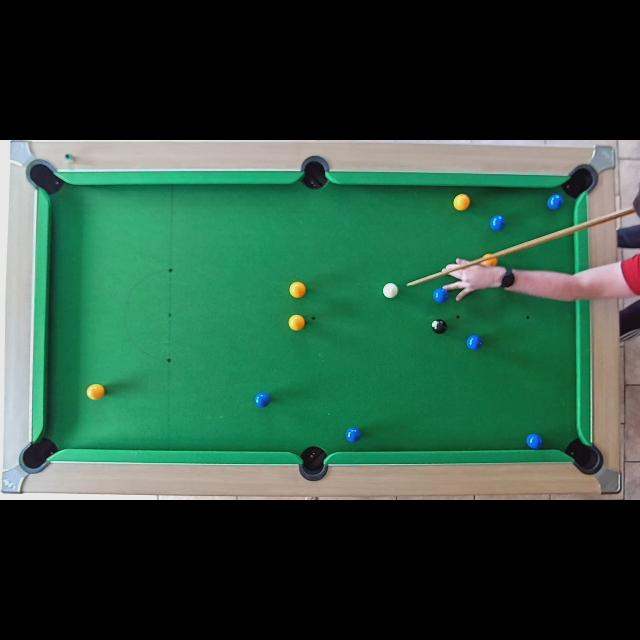Ball: (288, 314, 306, 332), (87, 384, 105, 401), (480, 253, 498, 270), (454, 193, 471, 210), (526, 432, 542, 450), (548, 193, 564, 210), (382, 283, 398, 299), (290, 282, 306, 298), (254, 392, 270, 408), (490, 216, 506, 232), (346, 427, 360, 443), (466, 336, 482, 350), (432, 289, 448, 303), (432, 320, 446, 334)
